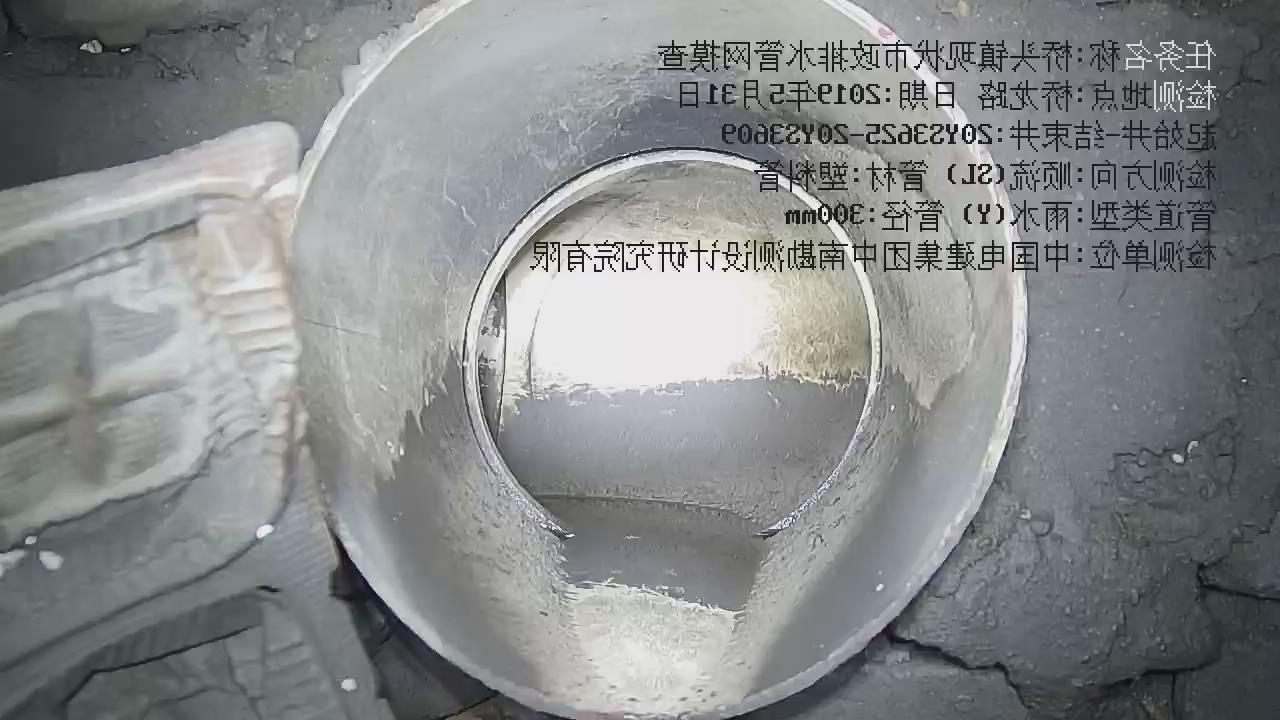CKTJ: (462, 147, 882, 538)
